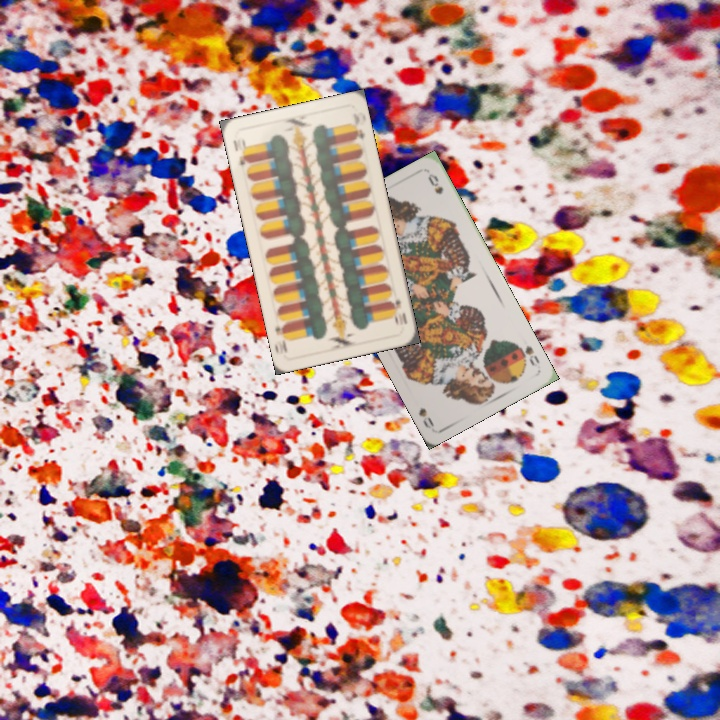E10: (229, 134, 252, 168), (386, 295, 410, 327)
SO: (513, 339, 542, 369)
